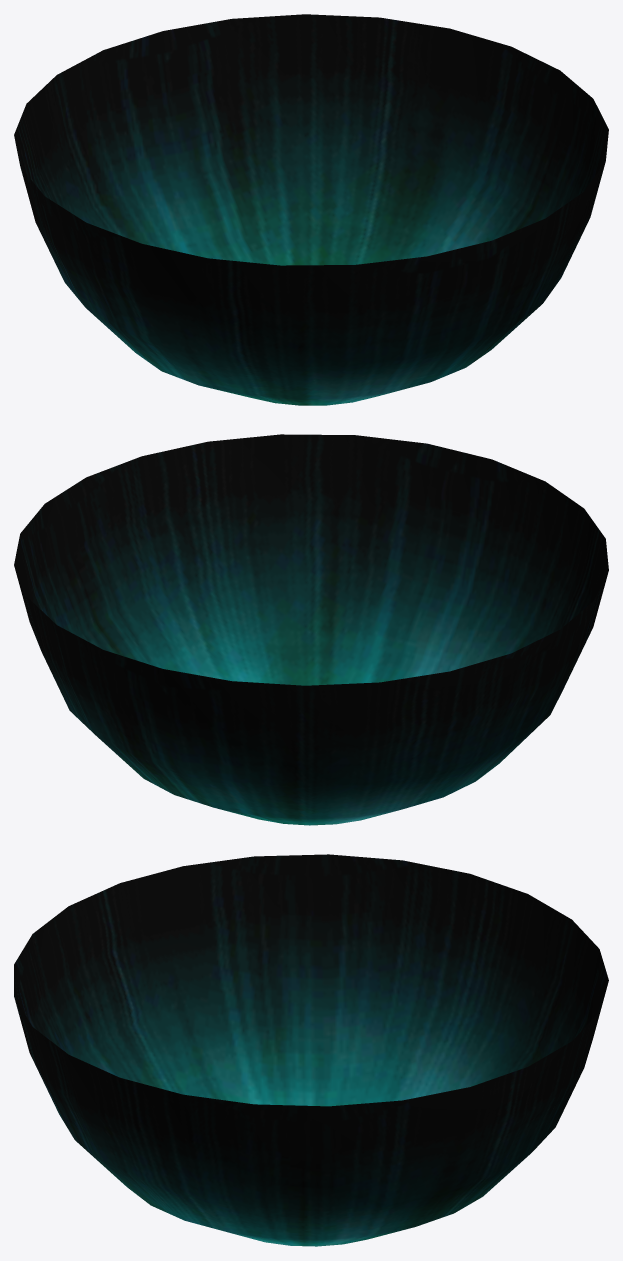
The model's file is 0131_S_FX_Huan_005.glb.
3 views of the same model, one above another, from view 1: azimuth 30°, elevation 25°; view 2: azimuth 150°, elevation 25°; view 3: azimuth 270°, elevation 25° (orthographic).
Bounding box in the file's own units: 2.2 × 0.9012 × 2.2.
1 material, 1 textured.
